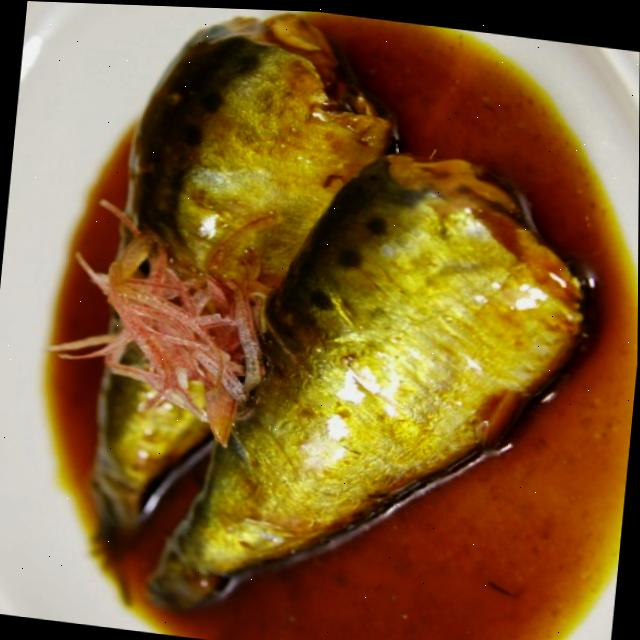熟制海鲜: (40, 1, 627, 640)
